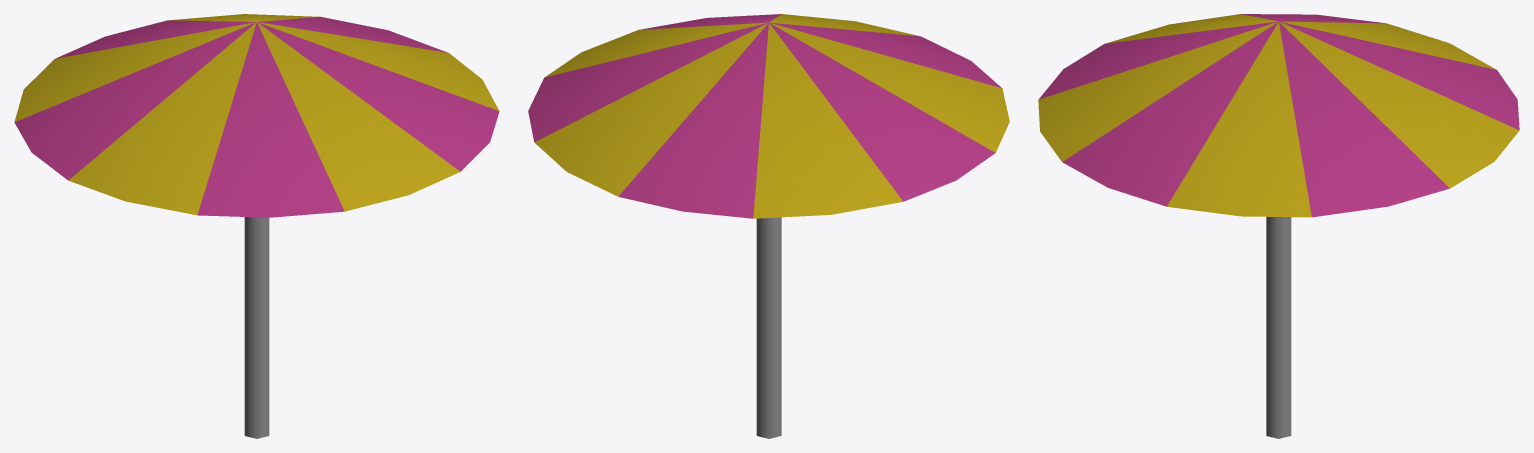
File: caffe_umbrella_v3.fbx
The picture shows the model from 3 angles, left to right: view 1: azimuth 30°, elevation 25°; view 2: azimuth 150°, elevation 25°; view 3: azimuth 270°, elevation 25°; orthographic projection.
Visible parts, largest first — view 1: caffe_umbrella_v3; view 2: caffe_umbrella_v3; view 3: caffe_umbrella_v3.
Boxes of the visible parts, x1=… form: caffe_umbrella_v3: x1=14, y1=14, x2=499, y2=438; caffe_umbrella_v3: x1=528, y1=14, x2=1009, y2=438; caffe_umbrella_v3: x1=1038, y1=14, x2=1519, y2=438.
Size of the model in its own units: 215 by 202 by 215.
